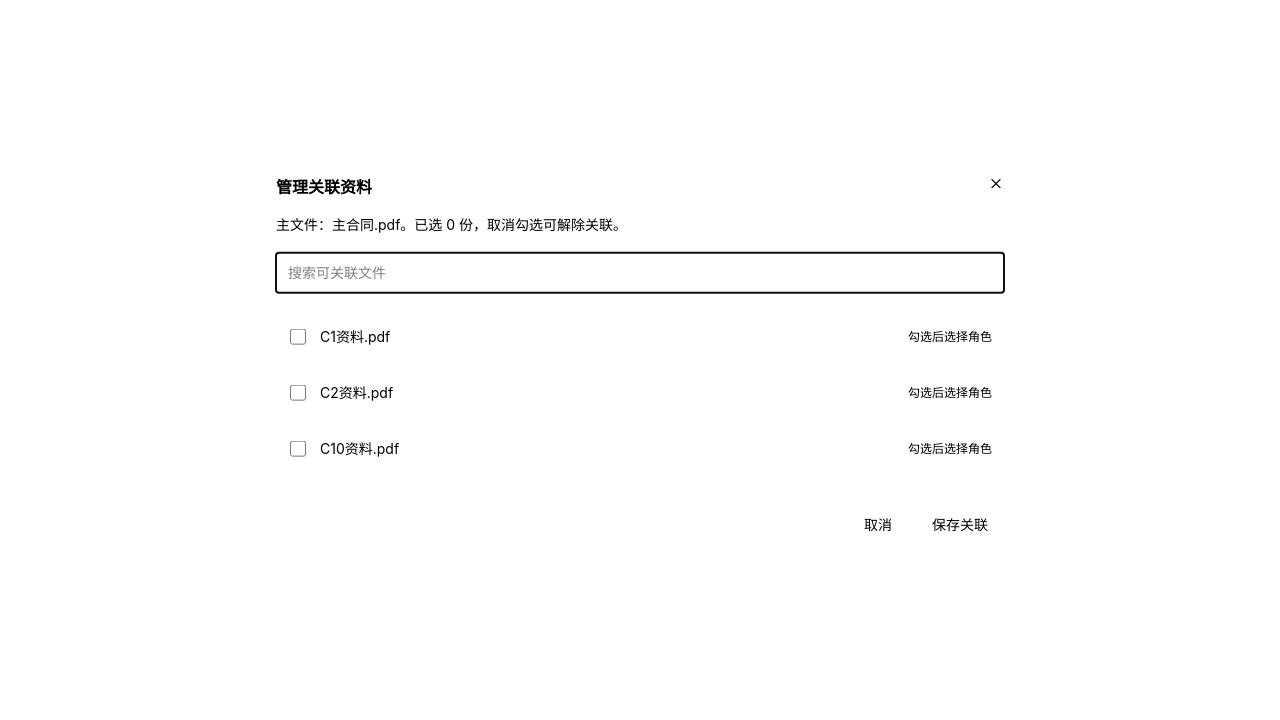
Test: 按文件名自然排序，搜索不会丢失已选文件
Click the checkbox named "选择C10资料.pdf" at (298, 448), box x1=290 y1=440 x2=306 y2=456
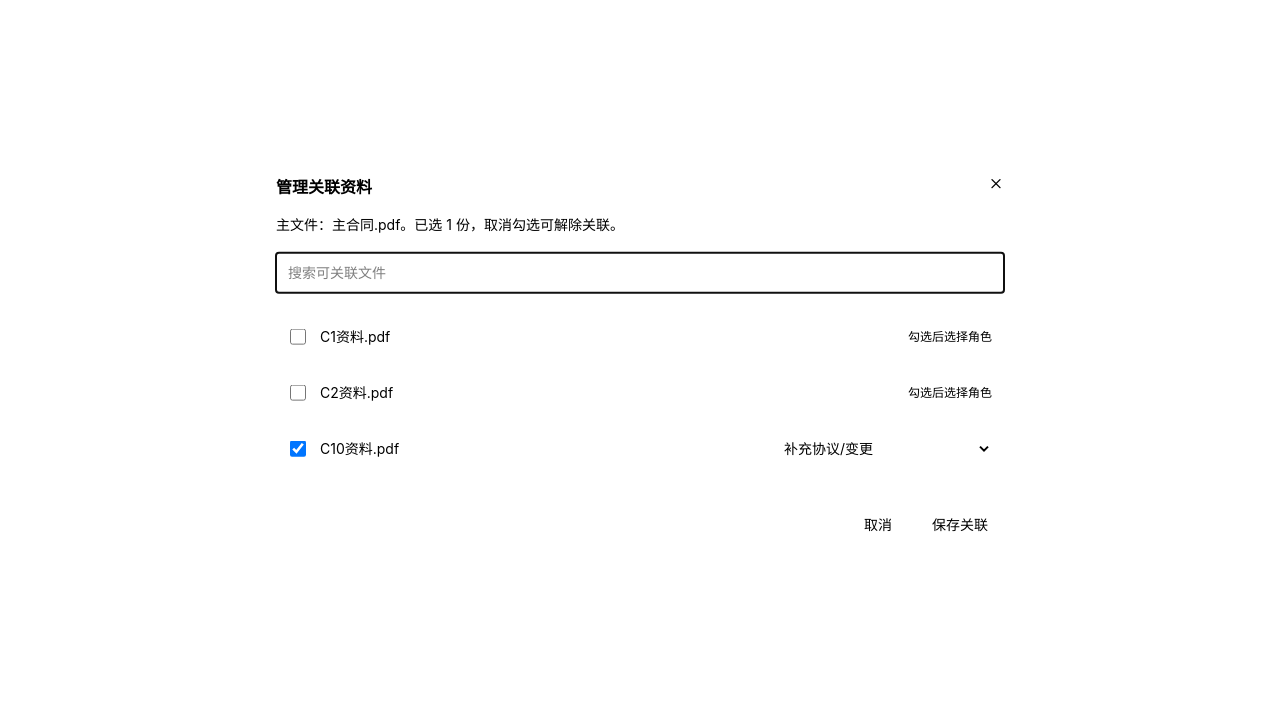
Type "C1资料" into the search field with placeholder "搜索可关联文件" at (640, 272), box x1=276 y1=252 x2=1004 y2=292
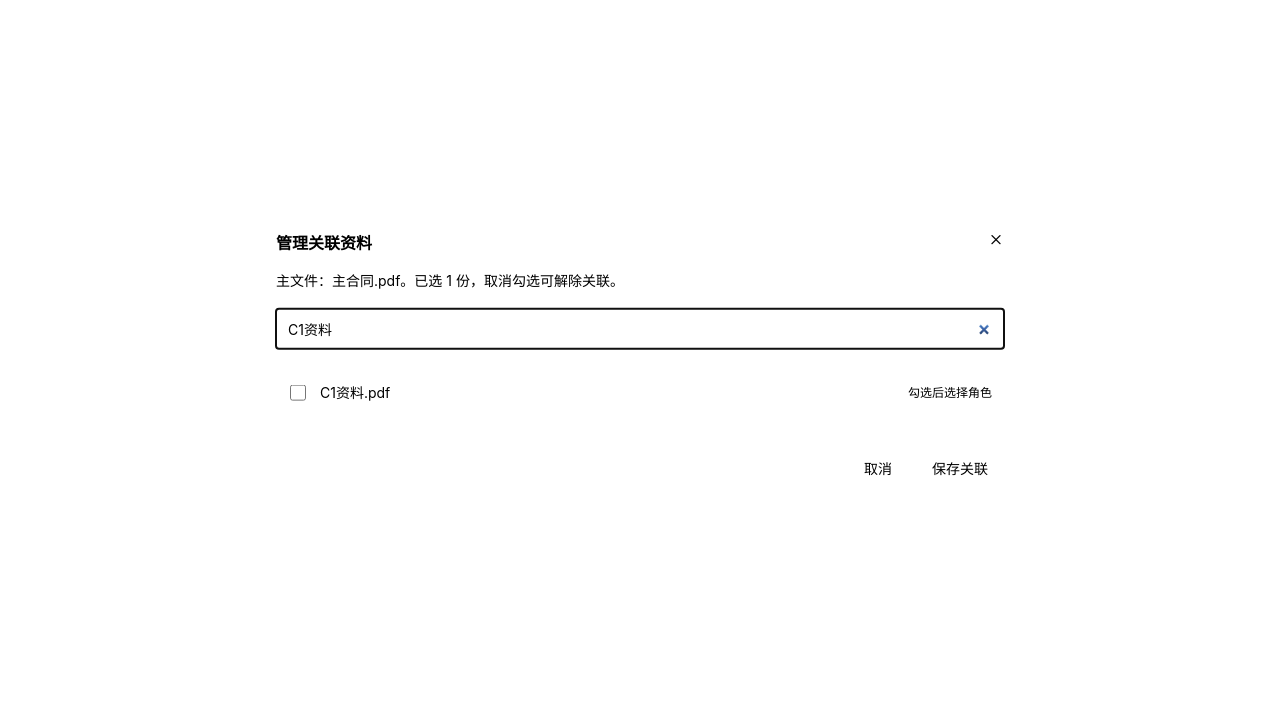
Clear the search field with placeholder "搜索可关联文件" at (640, 328), box x1=276 y1=308 x2=1004 y2=348
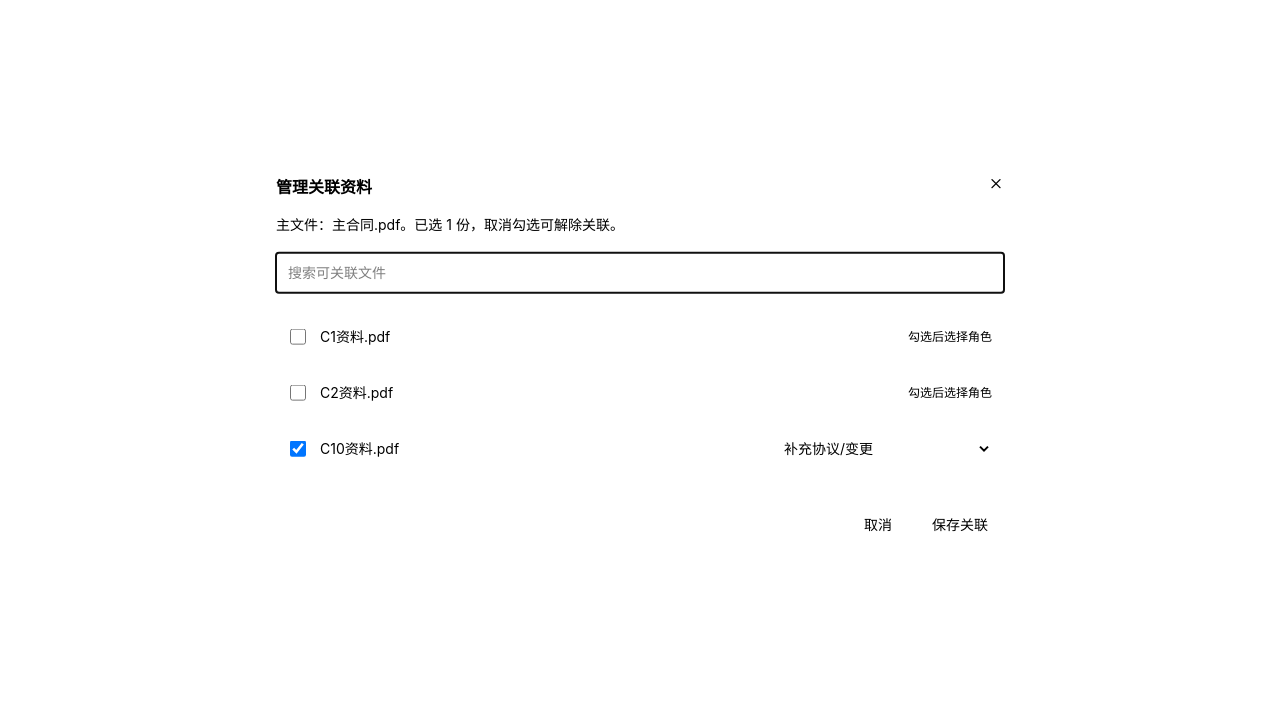
expect the checkbox named "选择C10资料.pdf" is checked: met, box x1=290 y1=440 x2=306 y2=456
